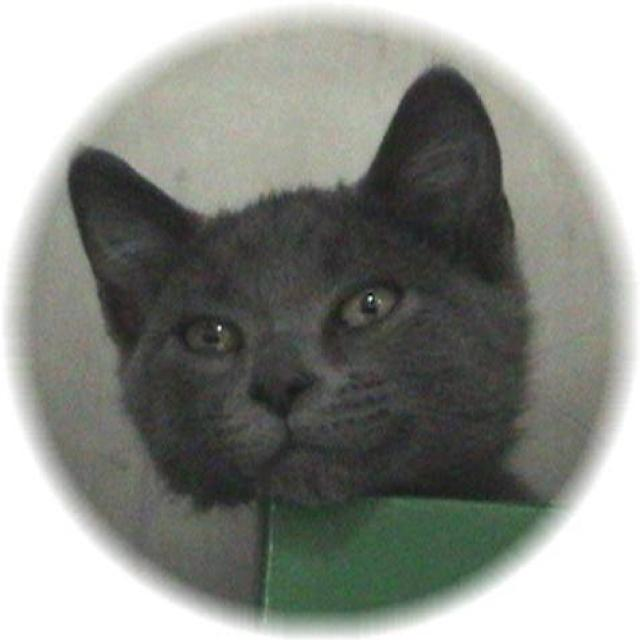cat: (64, 62, 542, 510)
